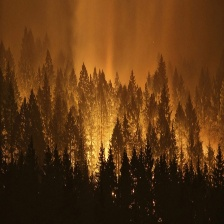smoke: (7, 3, 219, 101)
